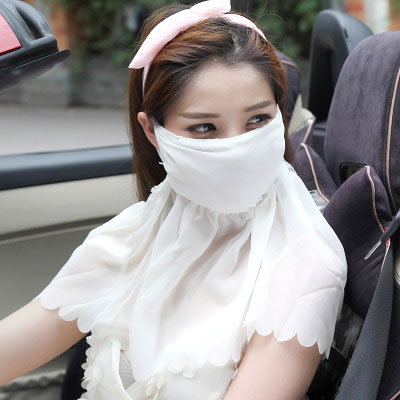face_mask: (159, 62, 281, 208)
